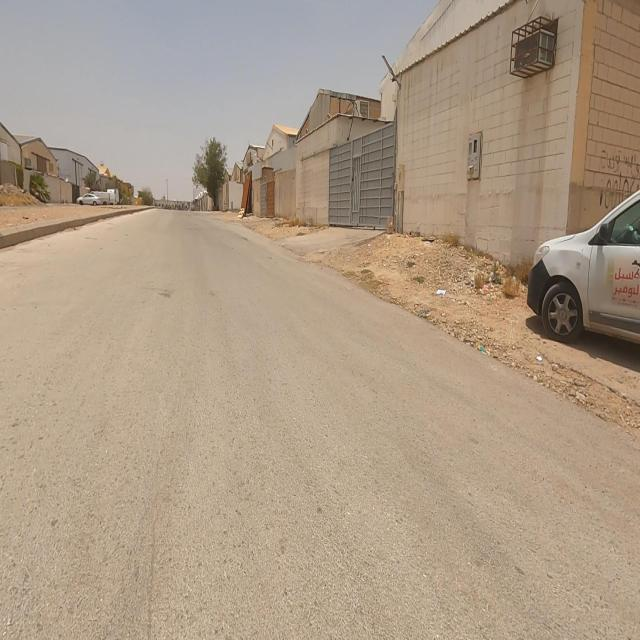Graffiti: (593, 151, 640, 191), (599, 193, 610, 213)
